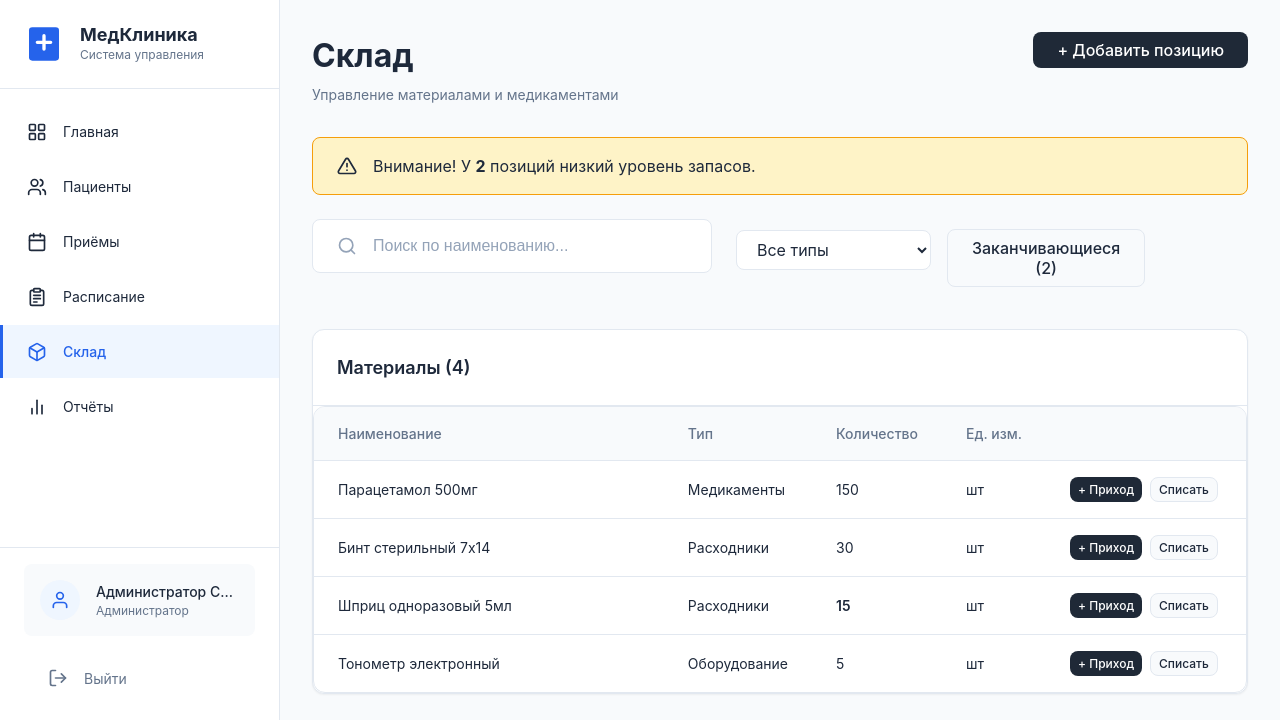
Test: Склад - Список материалов › Проверка выполнения приход материала
The image size is (1280, 720).
Click the button "+ Приход" in the row of "Парацетамол 500мг".
click(1106, 490)  # box [1070, 477, 1142, 502]
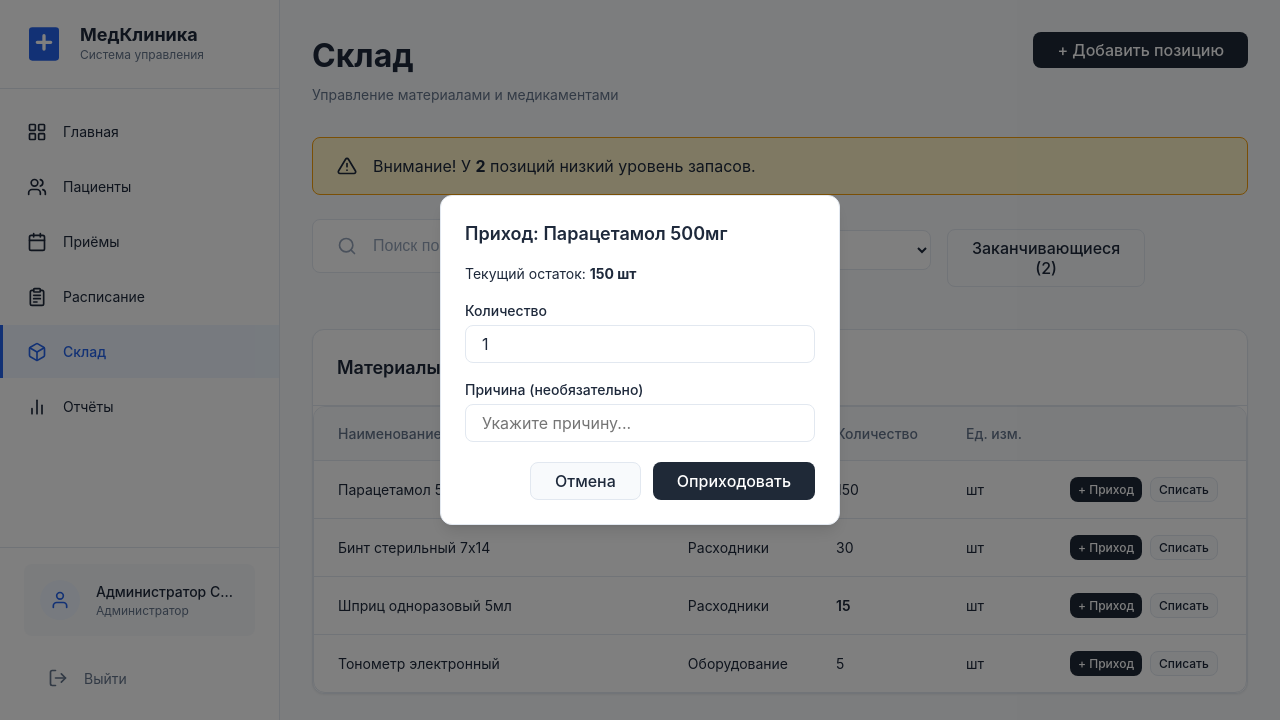
Replace the text in the number field labelled "Количество" with "10" at {"x": 640, "y": 344}, box [465, 325, 815, 363]
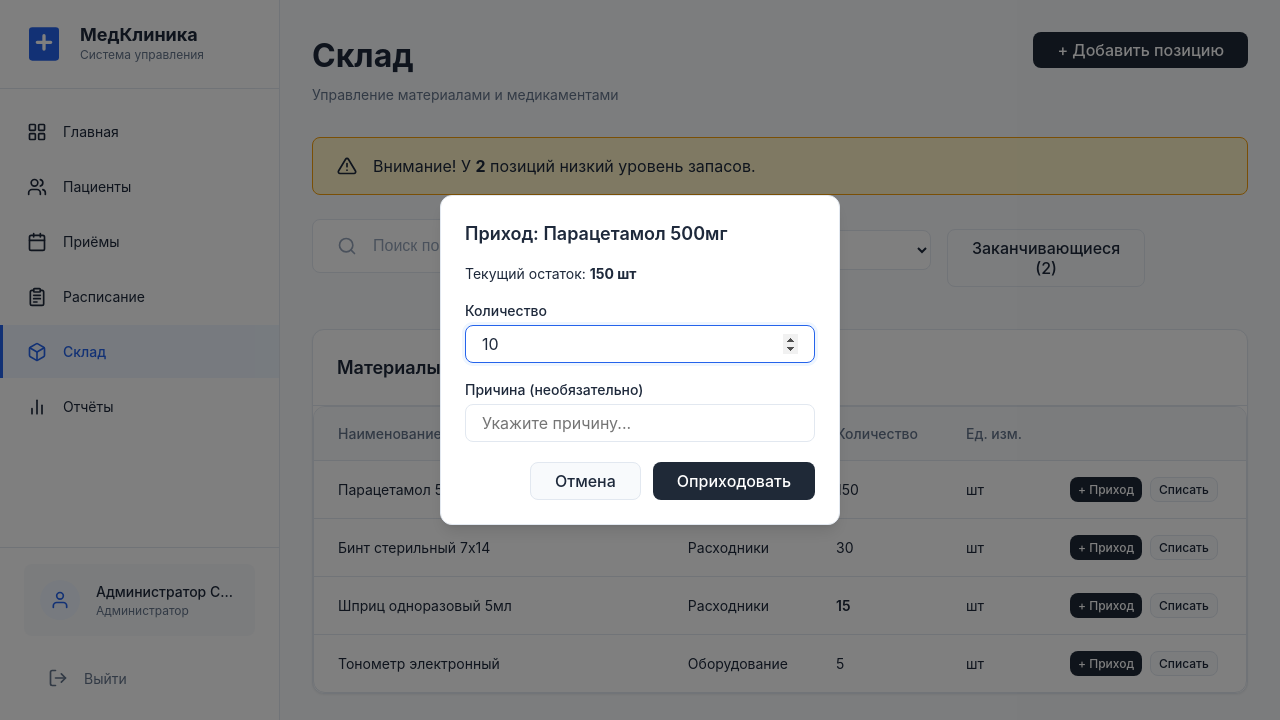
Click the button "Оприходовать".
click(734, 481)  # box [653, 462, 815, 500]
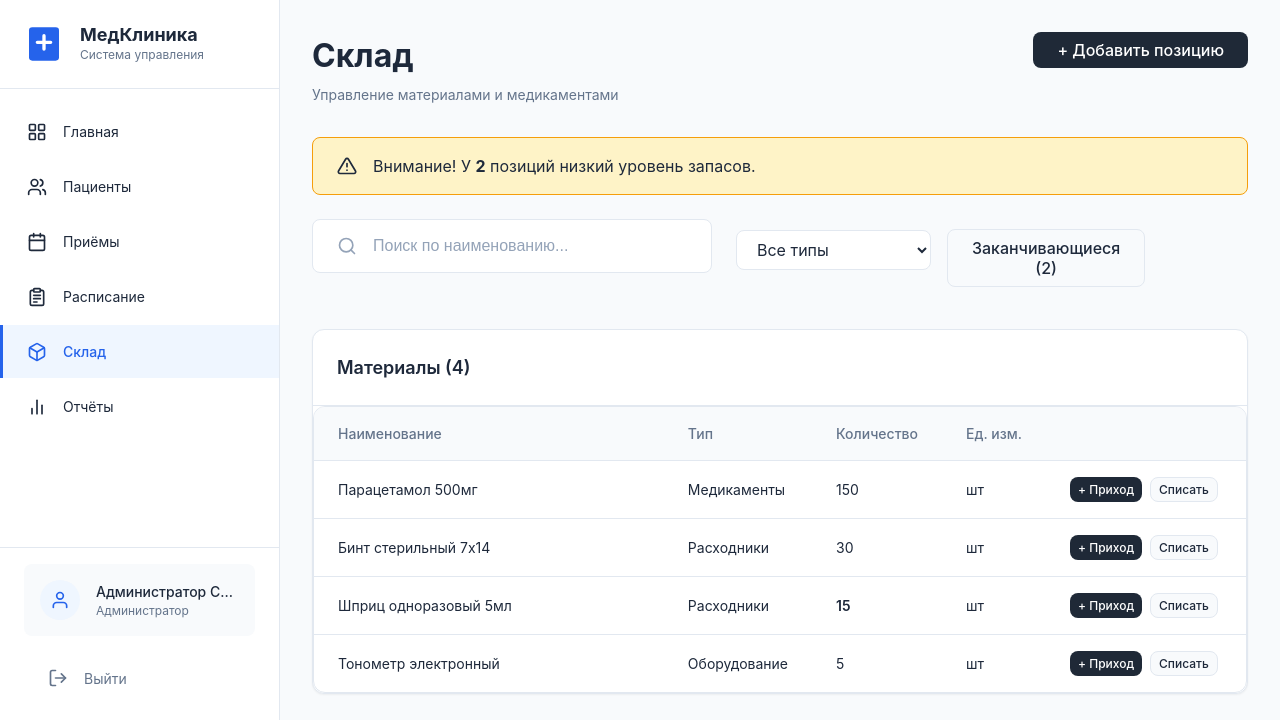
Expected: the element with class "modal" is gone
